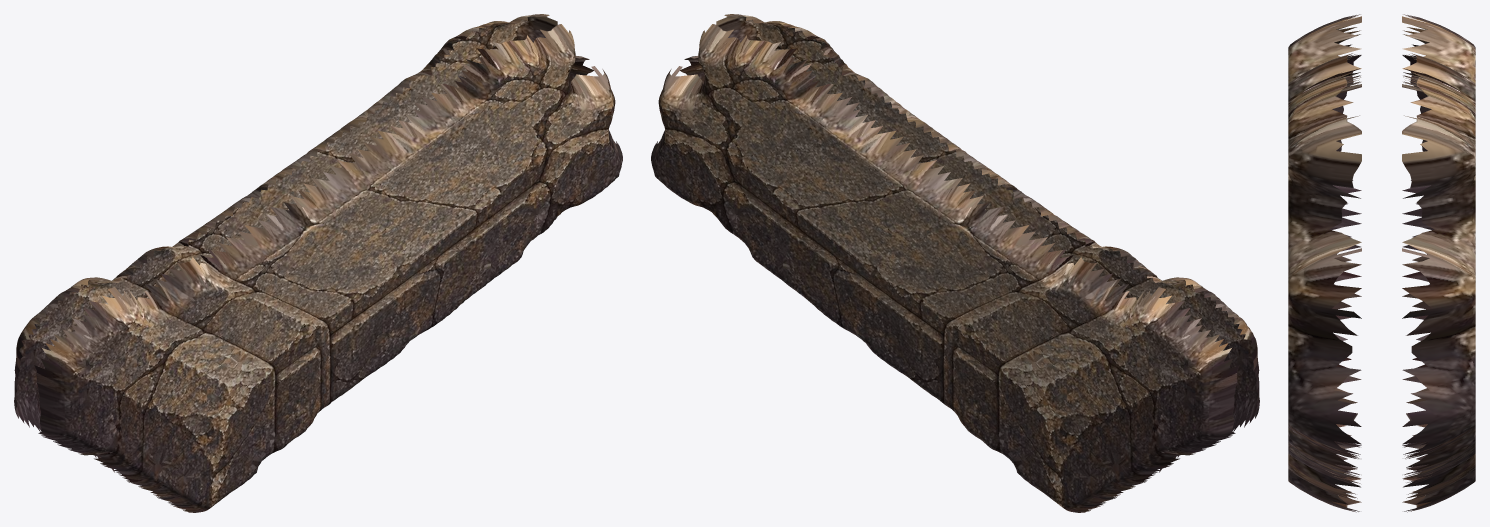
File: v4-shrine-scatter-toppled-marker.glb
3 views of the same model, side by side, from view 1: azimuth 30°, elevation 25°; view 2: azimuth 150°, elevation 25°; view 3: azimuth 270°, elevation 25° (orthographic). The views are drawn at different scales.
Parts seen in each view (by area): view 1: v4-shrine-scatter-toppled-marker; view 2: v4-shrine-scatter-toppled-marker; view 3: v4-shrine-scatter-toppled-marker.
Part boxes in pixels (x1,y1,x2,y2): v4-shrine-scatter-toppled-marker: [14, 14, 622, 512]; v4-shrine-scatter-toppled-marker: [651, 14, 1259, 512]; v4-shrine-scatter-toppled-marker: [1288, 14, 1475, 512].
Size of the model in its own units: 0.5314 by 0.3433 by 0.084.
1 material, 1 textured.
